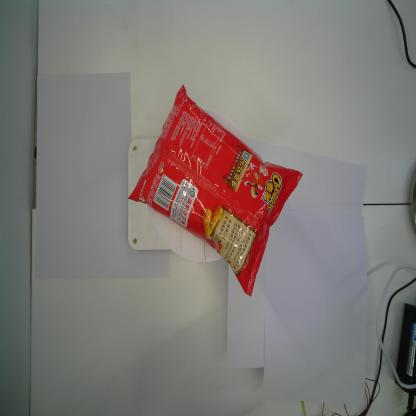Puffed Food: (128, 81, 304, 300)
